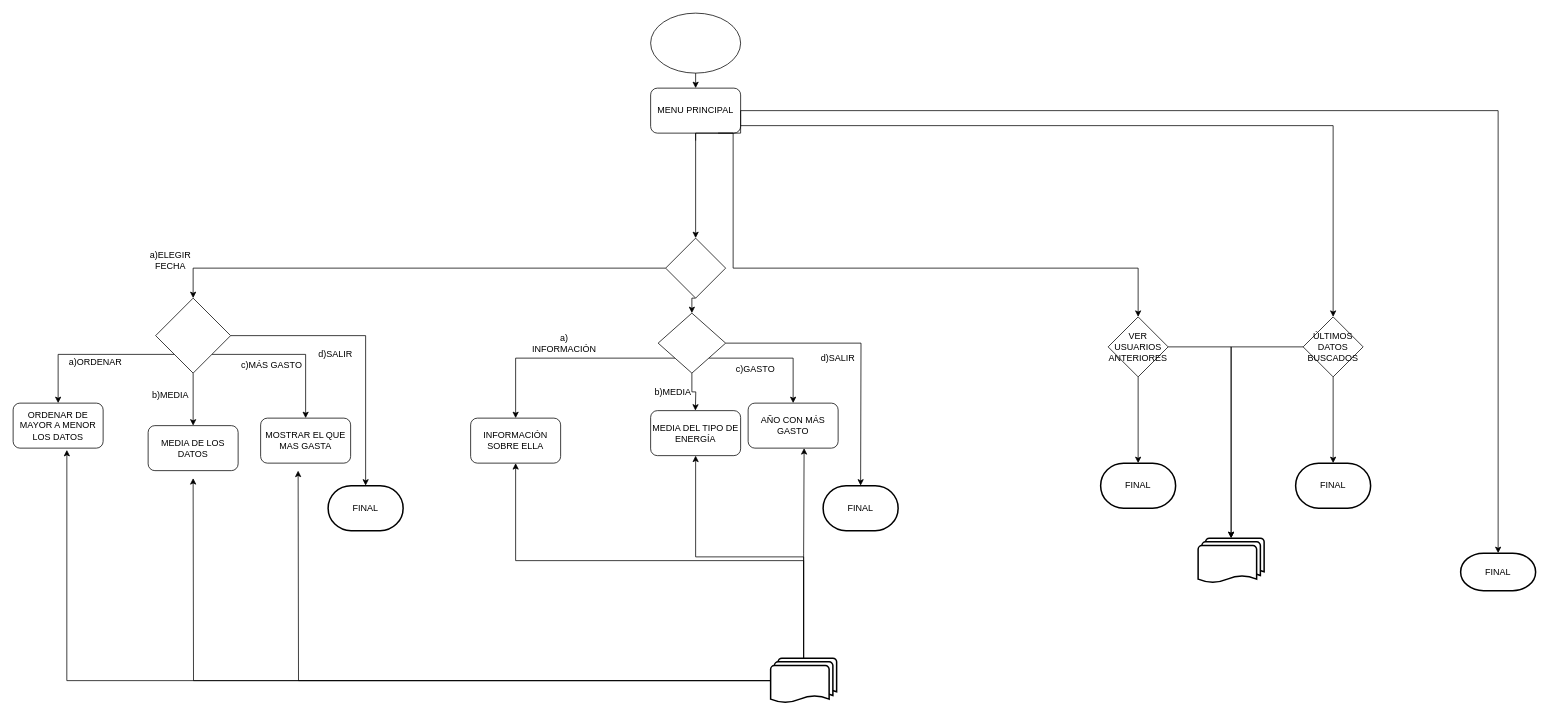
This 1550x717 diagram has some shape labels left out. The shapes that lost their labels are listed below. From the top down, each one's centre as x and y in pixels, then its label:
[695,42]: INICIO
[695,267]: ELIJA FUNCIÓN
[193,335]: QUE FUNCION HACER EN RELACION CON LA FECHA
[691,342]: ELEGIR TIPO DE ENERGÍA
[1230,560]: FICHEROS . .TXT
[803,680]: FICHEROS DE GWh
